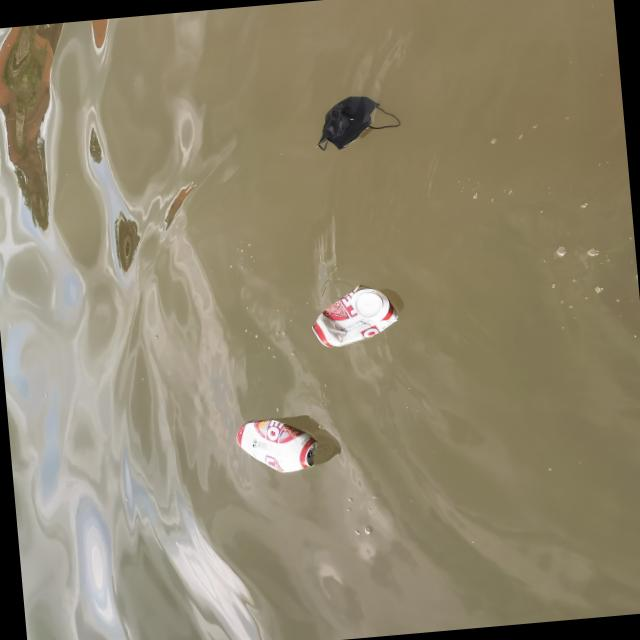can: (308, 278, 399, 347), (232, 415, 318, 476)
unknow: (310, 90, 405, 150)
